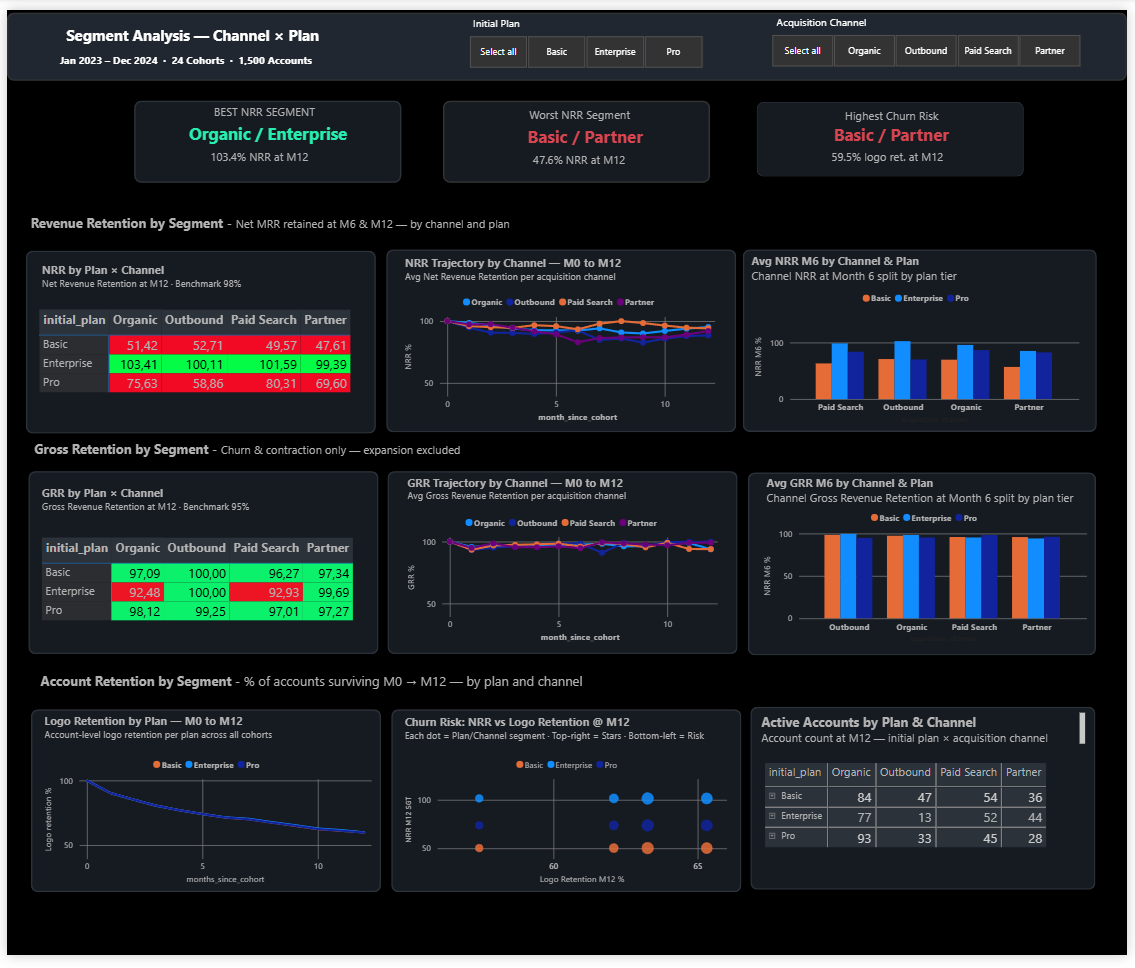

Layout of this report page (visuals, bound fields, positions):
{"tool":"powerbi","page":{"name":"Segment Analysis — Channel × Plan","canvas":[1600,1350],"ordinal":1},"visuals":[{"type":"shape","box":[0,3,1600.2,97.7],"z":0},{"type":"shape","box":[181.8,129.2,381.6,117.2],"z":0,"group":"g1"},{"type":"shape","box":[622,129.2,381.6,117.2],"z":0,"group":"g2"},{"type":"shape","box":[1071.3,130.7,381.6,106.7],"z":0,"group":"g3"},{"type":"shape","box":[1062.4,995.7,493.1,261.4],"z":0,"group":"g10"},{"type":"slicer","title":"Initial Plan ","fields":{"Values":["saasdbm cohort_mrr_retention_segmented.initial_plan"]},"box":[635.6,30,381.6,58.6],"z":1000},{"type":"shape","box":[549.3,1000.1,500.3,261.4],"z":1000,"group":"g9"},{"type":"slicer","fields":{"Values":["saasdbm cohort_mrr_retention_segmented.acquisition_channel"]},"box":[1066.8,28.5,489.8,58.6],"z":2000},{"type":"shape","box":[27,344.1,500,261.4],"z":2000,"group":"g4"},{"type":"shape","box":[34.8,1000.6,500.3,261.4],"z":2000,"group":"g8"},{"type":"shape","box":[1052.3,342.1,505.8,260.9],"z":3000},{"type":"shape","box":[1058.1,661,497.4,261.4],"z":3000,"group":"g7"},{"type":"textbox","box":[25.4,16.2,480,39],"z":4000},{"type":"shape","box":[544.2,658,500.3,261.4],"z":4000,"group":"g6"},{"type":"group","id":"g1","title":"Group 1","box":[181.8,129.2,381.6,117.2],"z":5000},{"type":"shape","box":[30.4,658,500.3,261.4],"z":5000,"group":"g5"},{"type":"scatterChart","fields":{"Category":["saasdbm cohort_logo_retention_segmented.acquisition_channel"],"X":["DAX_Measures.Logo Ret M12 (Scatter)"],"Size":["Sum(saasdbm cohort_logo_retention_segmented.active_accounts)"],"Series":["saasdbm cohort_mrr_retention_segmented.initial_plan"],"Y":["DAX_Measures.NRR M12 SGT"]},"box":[563.2,1059.1,476.9,195.7],"z":5000,"group":"g9"},{"type":"group","id":"g2","title":"Group 1","box":[622,129.2,381.6,117.2],"z":6000},{"type":"pivotTable","title":"Avg NRR % M12 by  initial_plan","fields":{"Rows":["saasdbm cohort_mrr_retention_segmented.initial_plan"],"Columns":["saasdbm cohort_mrr_retention_segmented.acquisition_channel"],"Values":["DAX_Measures.NRR M12 SGT"]},"box":[42,423.7,476.3,171.3],"z":6000,"group":"g4"},{"type":"pivotTable","title":"Avg NRR % M12 by  initial_plan","fields":{"Rows":["saasdbm cohort_mrr_retention_segmented.initial_plan"],"Columns":["saasdbm cohort_mrr_retention_segmented.acquisition_channel"],"Values":["DAX_Measures.GRR M12 SGT"]},"box":[43.9,748.1,476.3,171.3],"z":6000,"group":"g5"},{"type":"group","id":"g3","title":"Group 1","box":[1071.3,130.7,381.6,106.7],"z":7000},{"type":"textbox","box":[661.1,3,90.1,30],"z":8000},{"type":"shape","box":[541.1,342.1,500,261.4],"z":8000,"group":"g11"},{"type":"textbox","box":[1093.8,1.5,154.8,30],"z":9000},{"type":"textbox","box":[70.4,56.5,391.1,36.9],"z":10000},{"type":"textbox","box":[28.5,287,818.9,42.1],"z":11000},{"type":"lineChart","fields":{"Y":["DAX_Measures.NRR Trend"],"Series":["saasdbm cohort_mrr_retention_segmented.acquisition_channel"],"Category":["saasdbm cohort_mrr_retention_segmented.months_since_cohort"]},"box":[562.1,397.7,453.8,195.3],"z":11000,"group":"g11"},{"type":"textbox","box":[29,610.2,917.5,43.5],"z":12000},{"type":"textbox","box":[37.7,942.1,1269.7,42],"z":13000},{"type":"pivotTable","fields":{"Rows":["saasdbm cohort_logo_retention_segmented.initial_plan","saasdbm cohort_logo_retention_segmented.cohort_month"],"Columns":["saasdbm cohort_logo_retention_segmented.acquisition_channel"],"Values":["Sum(saasdbm cohort_logo_retention_segmented.active_accounts)"]},"box":[1077.9,1070.6,467.1,179.7],"z":13000,"group":"g10"},{"type":"group","id":"g4","title":"Group 2","box":[27,344.1,500.3,261.4],"z":14000},{"type":"clusteredColumnChart","fields":{"Category":["saasdbm cohort_mrr_retention_segmented.acquisition_channel"],"Series":["saasdbm cohort_mrr_retention_segmented.initial_plan"],"Y":["DAX_Measures.NRR M6 SGT"]},"box":[1063.7,393.1,473.3,202.8],"z":15000},{"type":"lineChart","fields":{"Category":["saasdbm cohort_mrr_retention_segmented.months_since_cohort"],"Y":["Avg(saasdbm cohort_mrr_retention_segmented.logo_retention_rate)"],"Series":["saasdbm cohort_mrr_retention_segmented.initial_plan"]},"box":[48.3,1059.5,476.9,195.7],"z":15000,"group":"g8"},{"type":"group","id":"g5","title":"Group 5","box":[30.4,658,500,260.9],"z":16000},{"type":"group","id":"g6","title":"Group 6","box":[544.2,658,500,260.9],"z":17000},{"type":"card","fields":{"Values":["DAX_Measures.Best NRR Segment"]},"box":[220.7,157.1,303.5,39.1],"z":17500,"group":"g1"},{"type":"card","fields":{"Values":["DAX_Measures.Highest Churn Risk Segment"]},"box":[1100.2,161.9,327.5,35.6],"z":17500,"group":"g3"},{"type":"card","fields":{"Values":["DAX_Measures.Worst NRR Segment"]},"box":[676.1,163.5,299,36.1],"z":17500,"group":"g2"},{"type":"card","fields":{"Values":["DAX_Measures.Best NRR Value"]},"box":[216.2,193.2,290,36.1],"z":18000,"group":"g1"},{"type":"card","fields":{"Values":["DAX_Measures.Highest Churn Risk Subtitle"]},"box":[1098.7,193.4,320,34.2],"z":18000,"group":"g3"},{"type":"card","fields":{"Values":["DAX_Measures.Worst NRR Value"]},"box":[674.6,198.1,285.5,37.6],"z":18000,"group":"g2"},{"type":"group","id":"g7","title":"Group 7","box":[1058.1,659.5,497.1,262.3],"z":18000},{"type":"textbox","box":[563.2,1002.5,476.8,49.3],"z":18000,"group":"g9"},{"type":"textbox","box":[217.7,130.1,300.5,31.6],"z":18501,"group":"g1"},{"type":"textbox","box":[671.6,132,290,33.1],"z":18501,"group":"g2"},{"type":"textbox","box":[1106.9,134.1,314,32],"z":18501,"group":"g3"},{"type":"textbox","box":[43.9,673,477.8,55.6],"z":19000,"group":"g5"},{"type":"textbox","box":[1073.6,999.6,472.8,55.1],"z":19000,"group":"g10"},{"type":"group","id":"g8","title":"Group 8","box":[34.8,1000.1,500,262.3],"z":19000},{"type":"group","id":"g9","title":"Group 9","box":[549.3,1000.1,501.5,262.3],"z":20000},{"type":"group","id":"g10","title":"Group 10","box":[1062.4,995.7,492.8,262.3],"z":21000},{"type":"textbox","box":[1059.2,342.1,477.8,55.6],"z":22000},{"type":"group","id":"g11","title":"Group 3","box":[541.1,342.1,500,261.4],"z":23000},{"type":"textbox","box":[45,354.6,477.8,55.6],"z":25000,"group":"g4"},{"type":"lineChart","fields":{"Series":["saasdbm cohort_mrr_retention_segmented.acquisition_channel"],"Category":["saasdbm cohort_mrr_retention_segmented.months_since_cohort"],"Y":["DAX_Measures.GRR Trend SGT"]},"box":[566.7,712.1,453.8,195.3],"z":25000,"group":"g6"},{"type":"textbox","box":[566.7,658,477.8,55.6],"z":26000,"group":"g6"},{"type":"clusteredColumnChart","fields":{"Category":["saasdbm cohort_mrr_retention_segmented.acquisition_channel"],"Series":["saasdbm cohort_mrr_retention_segmented.initial_plan"],"Y":["DAX_Measures.GRR M6 SGT"]},"box":[1076,705.9,471.9,202.8],"z":27000,"group":"g7"},{"type":"textbox","box":[1080.6,659.5,476.4,55.6],"z":28000,"group":"g7"},{"type":"textbox","box":[49.8,1000.1,478.3,50.7],"z":29500,"group":"g8"},{"type":"textbox","box":[562.1,345.1,477.8,55.6],"z":30000,"group":"g11"}]}

Visuals, with their boxes in screenshot pixels (x1, y1, x2, y2), scaled from the page's 1600x1350 canvas onto the 1135x968 screenshot:
shape: region(0, 2, 1134, 72)
shape: region(129, 93, 400, 177)
shape: region(441, 93, 712, 177)
shape: region(760, 94, 1031, 170)
shape: region(754, 714, 1103, 901)
"Initial Plan " slicer: region(451, 22, 722, 64)
shape: region(390, 717, 745, 905)
slicer - saasdbm cohort_mrr_retention_segmented.acquisition_channel: region(757, 20, 1104, 62)
shape: region(19, 247, 374, 434)
shape: region(25, 717, 380, 905)
shape: region(746, 245, 1105, 432)
shape: region(751, 474, 1103, 661)
textbox: region(18, 12, 359, 40)
shape: region(386, 472, 741, 659)
"Group 1" group: region(129, 93, 400, 177)
shape: region(22, 472, 376, 659)
scatterChart - saasdbm cohort_logo_retention_segmented.acquisition_channel x DAX_Measures.Logo Ret M12 (Scatter): region(400, 759, 738, 900)
"Group 1" group: region(441, 93, 712, 177)
"Avg NRR % M12 by  initial_plan" pivotTable: region(30, 304, 368, 427)
"Avg NRR % M12 by  initial_plan" pivotTable: region(31, 536, 369, 659)
"Group 1" group: region(760, 94, 1031, 170)
textbox: region(469, 2, 533, 24)
shape: region(384, 245, 739, 433)
textbox: region(776, 1, 886, 23)
textbox: region(50, 41, 327, 67)
textbox: region(20, 206, 601, 236)
lineChart - DAX_Measures.NRR Trend x saasdbm cohort_mrr_retention_segmented.acquisition_channel: region(399, 285, 721, 425)
textbox: region(21, 438, 671, 469)
textbox: region(27, 676, 927, 706)
pivotTable - saasdbm cohort_logo_retention_segmented.initial_plan x saasdbm cohort_logo_retention_segmented.cohort_month: region(765, 768, 1096, 897)
"Group 2" group: region(19, 247, 374, 434)
clusteredColumnChart - saasdbm cohort_mrr_retention_segmented.acquisition_channel x saasdbm cohort_mrr_retention_segmented.initial_plan: region(755, 282, 1090, 427)
lineChart - saasdbm cohort_mrr_retention_segmented.months_since_cohort x Avg(saasdbm cohort_mrr_retention_segmented.logo_retention_rate): region(34, 760, 373, 900)
"Group 5" group: region(22, 472, 376, 659)
"Group 6" group: region(386, 472, 741, 659)
card - DAX_Measures.Best NRR Segment: region(157, 113, 372, 141)
card - DAX_Measures.Highest Churn Risk Segment: region(780, 116, 1013, 142)
card - DAX_Measures.Worst NRR Segment: region(480, 117, 692, 143)
card - DAX_Measures.Best NRR Value: region(153, 139, 359, 164)
card - DAX_Measures.Highest Churn Risk Subtitle: region(779, 139, 1006, 163)
card - DAX_Measures.Worst NRR Value: region(479, 142, 681, 169)
"Group 7" group: region(751, 473, 1103, 661)
textbox: region(400, 719, 738, 754)
textbox: region(154, 93, 368, 116)
textbox: region(476, 95, 682, 118)
textbox: region(785, 96, 1008, 119)
textbox: region(31, 483, 370, 522)
textbox: region(762, 717, 1097, 756)
"Group 8" group: region(25, 717, 379, 905)
"Group 9" group: region(390, 717, 745, 905)
"Group 10" group: region(754, 714, 1103, 902)
textbox: region(751, 245, 1090, 285)
"Group 3" group: region(384, 245, 739, 433)
textbox: region(32, 254, 371, 294)
lineChart - saasdbm cohort_mrr_retention_segmented.acquisition_channel x saasdbm cohort_mrr_retention_segmented.months_since_cohort: region(402, 511, 724, 651)
textbox: region(402, 472, 741, 512)
clusteredColumnChart - saasdbm cohort_mrr_retention_segmented.acquisition_channel x saasdbm cohort_mrr_retention_segmented.initial_plan: region(763, 506, 1098, 652)
textbox: region(767, 473, 1104, 513)
textbox: region(35, 717, 375, 753)
textbox: region(399, 247, 738, 287)
